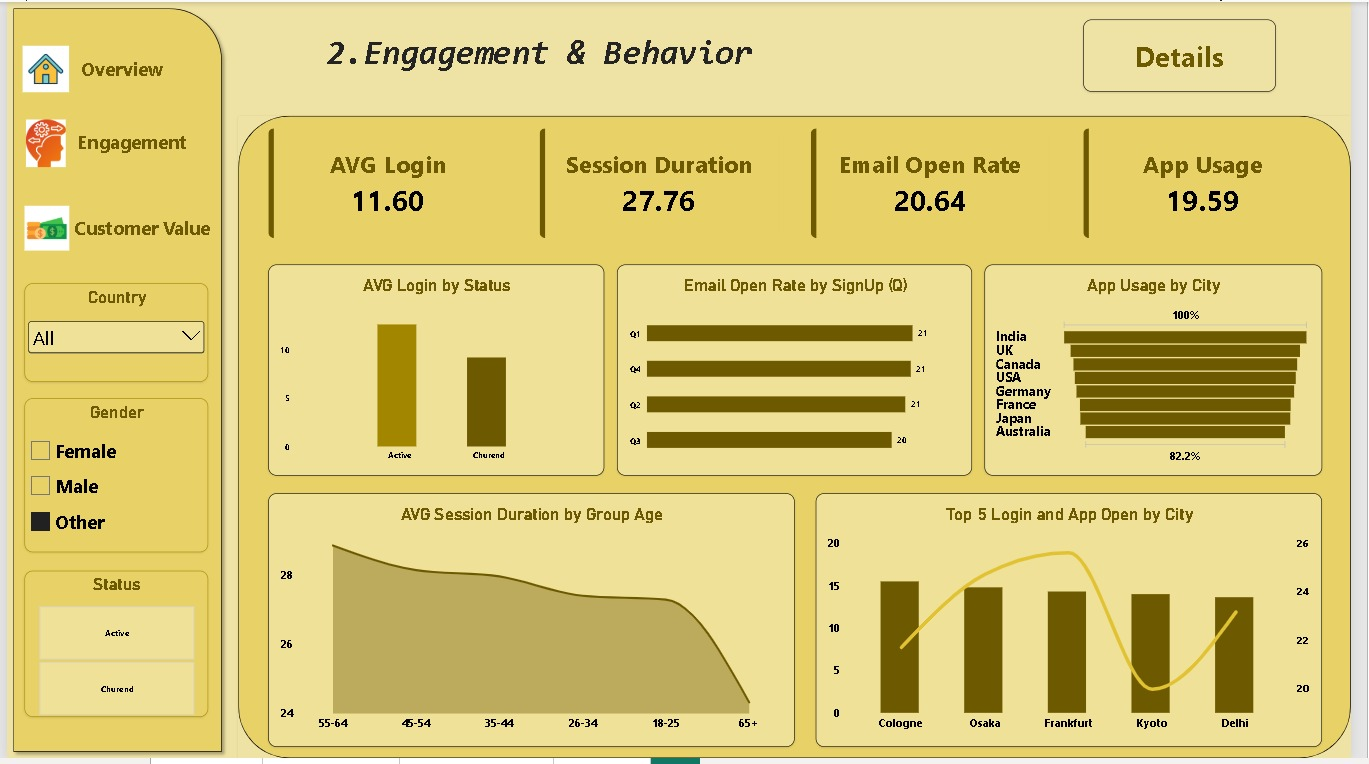

What the dashboard file says about the page in this screenshot:
{"tool":"powerbi","page":{"name":"Engagement","canvas":[1920,1080],"ordinal":1},"visuals":[{"type":"shape","box":[330.4,162.5,1589.3,917.9],"z":0},{"type":"shape","box":[0,0,316.1,1080.4],"z":1000},{"type":"cardVisual","fields":{"Data":["Engagement & Behavior.AVG Login"]},"box":[372.9,180,341.1,157.1],"z":2000},{"type":"cardVisual","fields":{"Data":["Engagement & Behavior.Session Duration"]},"box":[761,180,341.1,157.1],"z":3000},{"type":"cardVisual","fields":{"Data":["Engagement & Behavior.Email Open Rate"]},"box":[1149.1,180,341.1,157.1],"z":4000},{"type":"cardVisual","fields":{"Data":["Engagement & Behavior.App Usage"]},"box":[1537.2,180,341.1,157.1],"z":5000},{"type":"columnChart","title":"AVG Login by Status","fields":{"Category":["Data.Customer Type"],"Y":["Engagement & Behavior.AVG Login"]},"box":[373.2,375,480.4,301.8],"z":6000},{"type":"lineClusteredColumnComboChart","title":"Top 5 Login and App Open by City","fields":{"Category":["Data.City"],"Y":["Engagement & Behavior.AVG Login"],"Y2":["Engagement & Behavior.Email Open Rate"]},"box":[1155.4,701.8,723.2,362.5],"z":7000},{"type":"funnel","title":"App Usage by City","fields":{"Category":["Data.Country"],"Y":["Engagement & Behavior.App Usage"]},"box":[1396.4,375,482.1,301.8],"z":8000},{"type":"stackedAreaChart","title":"AVG Session Duration by Group Age","fields":{"Category":["Data.Age Group"],"Y":["Engagement & Behavior.Session Duration"]},"box":[373.2,701.8,751.8,362.5],"z":9000},{"type":"barChart","title":"Email Open Rate by SignUp (Q) ","fields":{"Category":["Data.Signup_Quarter"],"Y":["Engagement & Behavior.Email Open Rate"]},"box":[871.4,375,507.1,301.8],"z":10000},{"type":"actionButton","title":"Overv","box":[26.8,44.6,275,103.6],"z":12000},{"type":"actionButton","title":"Overv","box":[69.6,271.4,246.4,103.6],"z":13000},{"type":"actionButton","title":"Overv","box":[41.1,148.2,275,103.6],"z":14000},{"type":"image","box":[14.3,62.5,82.1,66.1],"z":15000},{"type":"slicer","title":"Country","fields":{"Values":["Data.Country"]},"box":[25,401.8,262.5,141.1],"z":16000},{"type":"slicer","title":"Gender","fields":{"Values":["Data.Gender"]},"box":[25,566.1,262.5,219.6],"z":17000},{"type":"slicer","title":"Status","fields":{"Values":["Data.Customer Type"]},"box":[25,812.5,262.5,208.9],"z":18000},{"type":"textbox","box":[417.9,44.6,685.7,66.1],"z":19000},{"type":"image","box":[14.3,167.9,82.1,67.9],"z":19001},{"type":"image","box":[25,283.9,64.3,78.6],"z":19002},{"type":"actionButton","title":"Overv","box":[1537.5,25,275,103.6],"z":19003}]}

Visuals, with their boxes in screenshot pixels (x1, y1, x2, y2), scaled from the page's 1920x1080 canvas onto the 1369x764 screenshot:
shape: Rect(236, 115, 1368, 763)
shape: Rect(0, 0, 225, 763)
cardVisual - Engagement & Behavior.AVG Login: Rect(266, 127, 509, 238)
cardVisual - Engagement & Behavior.Session Duration: Rect(543, 127, 786, 238)
cardVisual - Engagement & Behavior.Email Open Rate: Rect(819, 127, 1063, 238)
cardVisual - Engagement & Behavior.App Usage: Rect(1096, 127, 1339, 238)
"AVG Login by Status" columnChart: Rect(266, 265, 609, 479)
"Top 5 Login and App Open by City" lineClusteredColumnComboChart: Rect(824, 496, 1339, 753)
"App Usage by City" funnel: Rect(996, 265, 1339, 479)
"AVG Session Duration by Group Age" stackedAreaChart: Rect(266, 496, 802, 753)
"Email Open Rate by SignUp (Q) " barChart: Rect(621, 265, 983, 479)
"Overv" actionButton: Rect(19, 32, 215, 105)
"Overv" actionButton: Rect(50, 192, 225, 265)
"Overv" actionButton: Rect(29, 105, 225, 178)
image: Rect(10, 44, 69, 91)
"Country" slicer: Rect(18, 284, 205, 384)
"Gender" slicer: Rect(18, 400, 205, 556)
"Status" slicer: Rect(18, 575, 205, 723)
textbox: Rect(298, 32, 787, 78)
image: Rect(10, 119, 69, 167)
image: Rect(18, 201, 64, 256)
"Overv" actionButton: Rect(1096, 18, 1292, 91)
